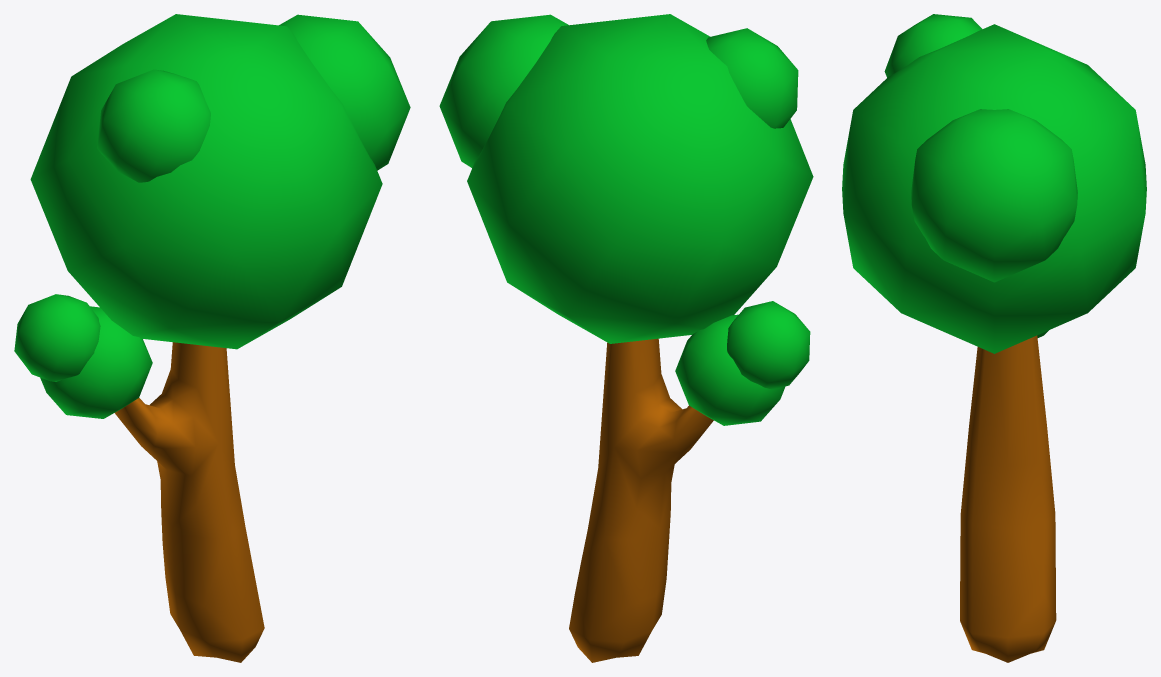
The model's file is Arbol-1.fbx.
3 renders of one model, left to right at view 1: azimuth 30°, elevation 25°; view 2: azimuth 150°, elevation 25°; view 3: azimuth 270°, elevation 25°, orthographic. The views are drawn at different scales.
Parts seen in each view (by area): view 1: pSolid32; view 2: pSolid32; view 3: pSolid32.
Part boxes in pixels (x1,y1,x2,y2): pSolid32: [14, 14, 410, 662]; pSolid32: [439, 14, 813, 662]; pSolid32: [842, 14, 1146, 662].
Bounding box in the file's own units: 5.67 × 9.57 × 4.42.
